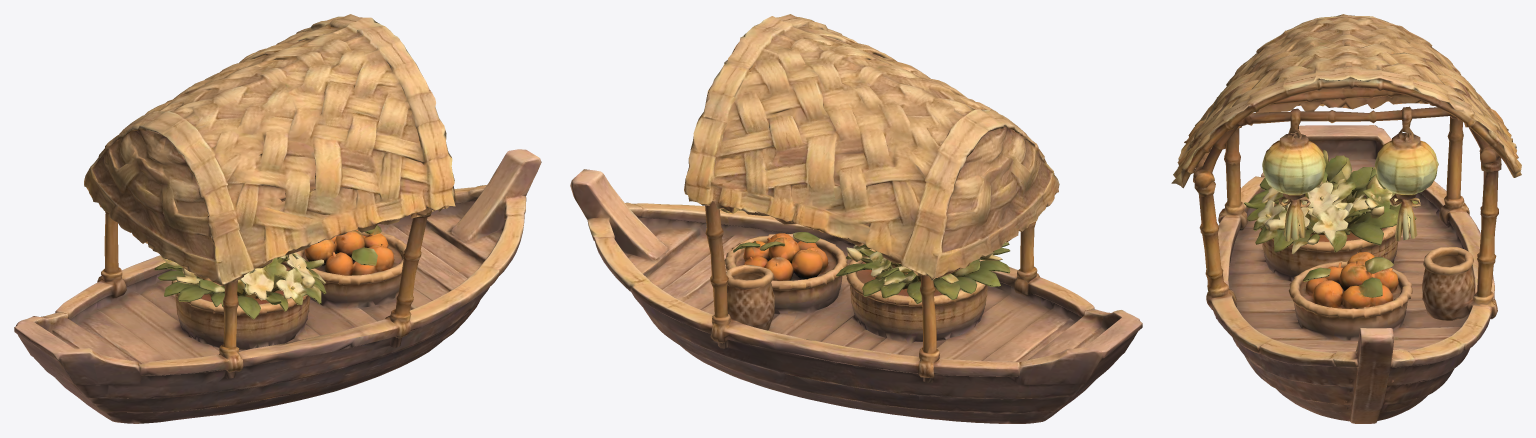
Rendered from boat.glb.
3 renders of one model, left to right at view 1: azimuth 30°, elevation 25°; view 2: azimuth 150°, elevation 25°; view 3: azimuth 270°, elevation 25°, orthographic. The views are drawn at different scales.
Parts seen in each view (by area): view 1: tripo_node_f42ba018-40a3-43cb-8120-25cba87994a1; view 2: tripo_node_f42ba018-40a3-43cb-8120-25cba87994a1; view 3: tripo_node_f42ba018-40a3-43cb-8120-25cba87994a1.
Boxes of the visible parts, box(x1,y1,x2,y2) form: tripo_node_f42ba018-40a3-43cb-8120-25cba87994a1: box(14, 14, 541, 423); tripo_node_f42ba018-40a3-43cb-8120-25cba87994a1: box(570, 14, 1142, 423); tripo_node_f42ba018-40a3-43cb-8120-25cba87994a1: box(1171, 14, 1521, 423).
Size of the model in its own units: 1 by 0.5765 by 0.567.
1 material, 1 textured.
